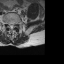CCS_normal: (10, 22, 12, 30)
LFS_stenosis: (14, 21, 15, 26)
LLS_normal: (12, 22, 14, 29)
RFS_stenosis: (7, 21, 9, 26)
RLS_normal: (9, 22, 10, 29)
